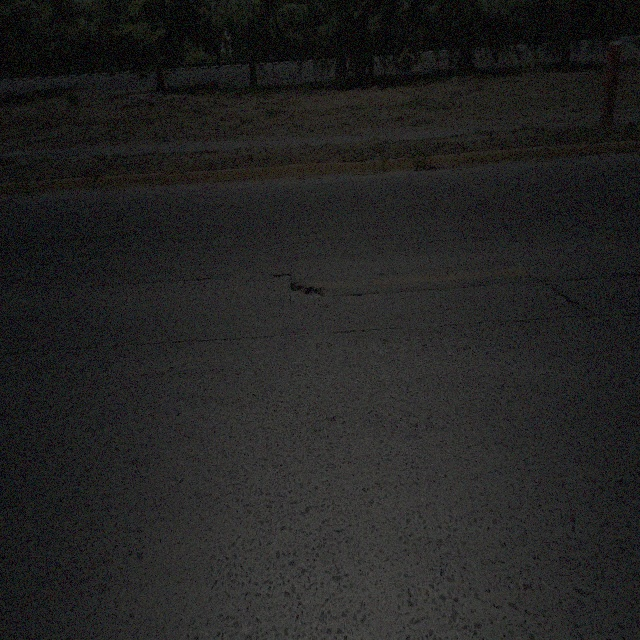pothole: (287, 276, 325, 302), (557, 289, 579, 308)
